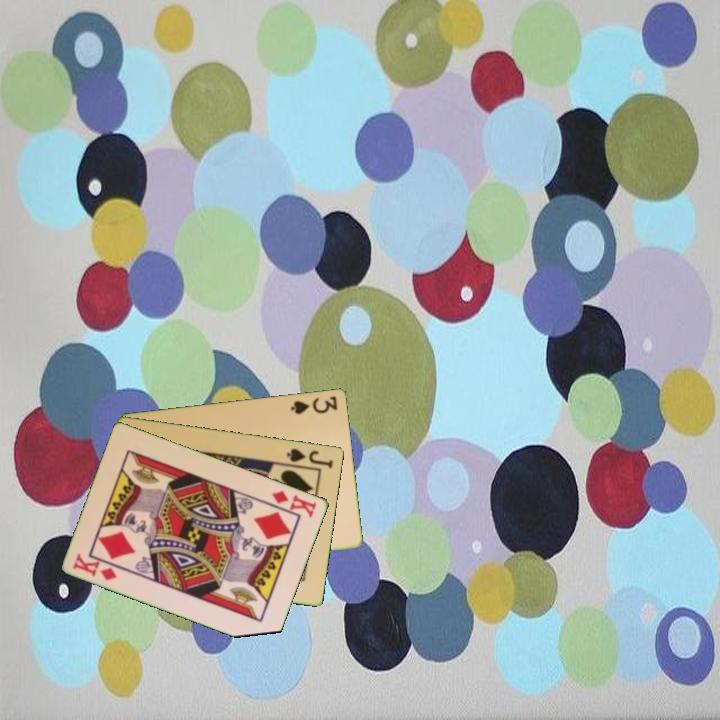3s: (287, 392, 340, 417)
Js: (283, 445, 336, 471)
Kd: (263, 486, 320, 520), (69, 550, 120, 583)
